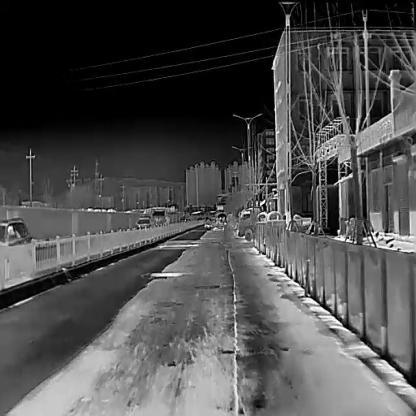car: (238, 206, 310, 240), (0, 216, 35, 285), (151, 206, 169, 226), (135, 215, 151, 230), (212, 218, 224, 230), (204, 218, 213, 227)
